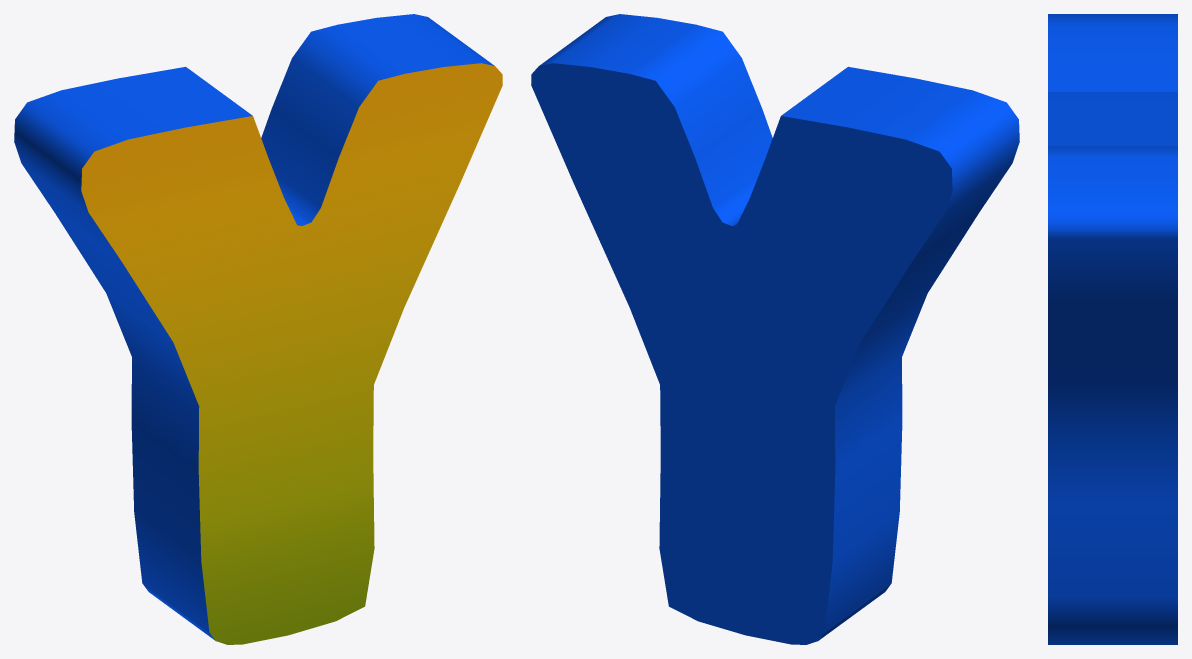
3 renders of one model, left to right at view 1: azimuth 30°, elevation 25°; view 2: azimuth 150°, elevation 25°; view 3: azimuth 270°, elevation 25°, orthographic. The views are drawn at different scales.
Visible parts, largest first — view 1: Y; view 2: Y; view 3: Y.
Boxes of the visible parts, <box> form: Y: <box>14,14,502,644</box>; Y: <box>531,14,1019,644</box>; Y: <box>1048,14,1177,644</box>.
Bounding box in the file's own units: 72.5 × 87.92 × 20.
Materials: 2 (1 with a texture image).
